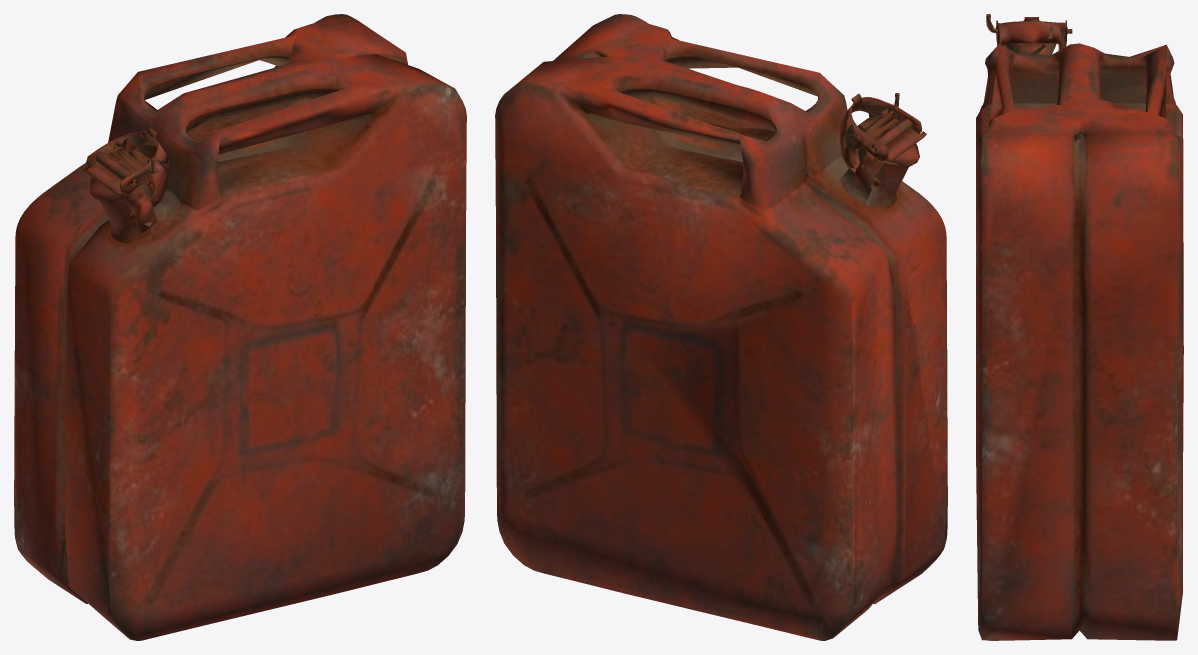
File: JerryCan.obj
3 views of the same model, side by side, from view 1: azimuth 30°, elevation 25°; view 2: azimuth 150°, elevation 25°; view 3: azimuth 270°, elevation 25° (orthographic). The views are drawn at different scales.
Visible parts, largest first — view 1: Can; view 2: Can; view 3: Can.
Boxes of the visible parts, x1=… form: Can: x1=14, y1=14, x2=466, y2=640; Can: x1=495, y1=14, x2=947, y2=640; Can: x1=976, y1=14, x2=1183, y2=640.
Size of the model in its own units: 0.3504 by 0.4548 by 0.1698.
1 material, 1 textured.
